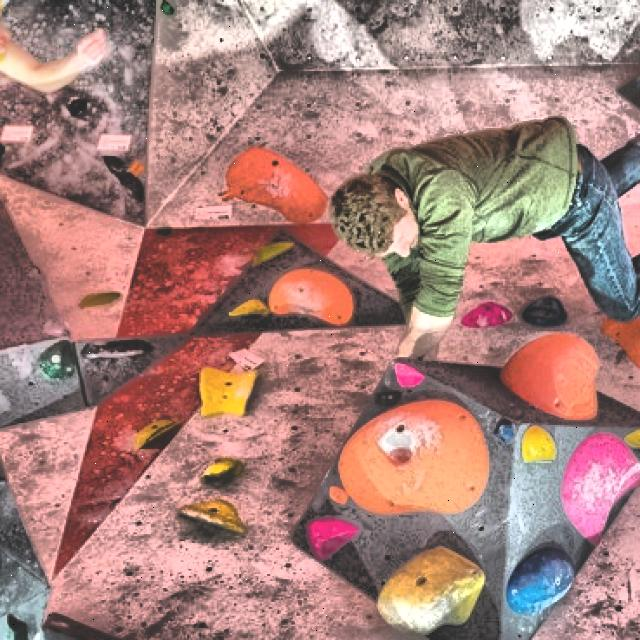Hold: (338, 399, 489, 515), (378, 548, 484, 635), (562, 432, 640, 545), (500, 335, 600, 421), (227, 147, 328, 222), (267, 264, 356, 326), (506, 545, 578, 616), (199, 366, 258, 416), (305, 513, 361, 560), (179, 500, 246, 538), (106, 158, 144, 210), (38, 340, 78, 387), (132, 418, 182, 454), (85, 338, 153, 359), (522, 423, 557, 463), (522, 297, 567, 328), (461, 302, 512, 326), (201, 458, 243, 487), (251, 239, 293, 265), (394, 359, 427, 389), (229, 298, 271, 317), (78, 291, 121, 309), (5, 616, 28, 640), (494, 420, 517, 444), (328, 484, 350, 506), (375, 392, 401, 408), (624, 429, 640, 451), (160, 0, 177, 17), (43, 320, 63, 333), (71, 101, 87, 116), (154, 227, 173, 236), (28, 268, 43, 278), (0, 475, 7, 492)
Volume: (295, 359, 640, 640), (0, 0, 159, 225), (192, 236, 407, 336), (0, 191, 88, 422), (76, 341, 184, 407)
start_tag: (130, 161, 145, 175), (220, 191, 233, 201)
